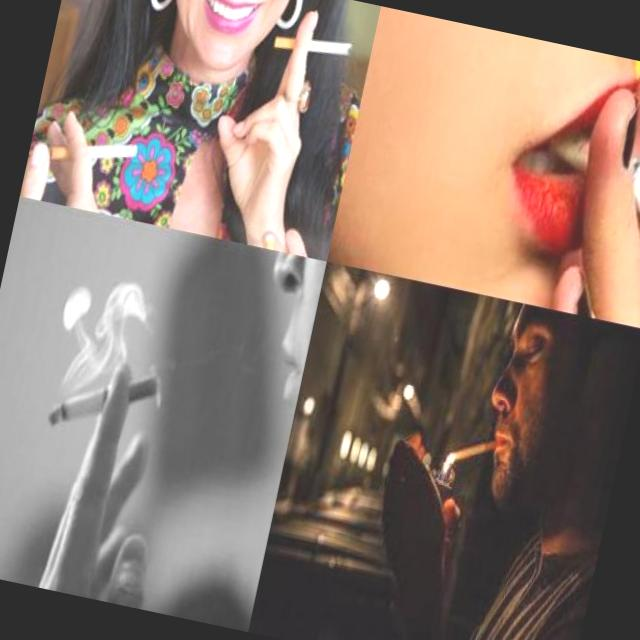cigarette: (12, 359, 192, 610), (203, 18, 354, 229), (522, 121, 640, 281), (19, 101, 142, 218), (452, 429, 502, 472)
